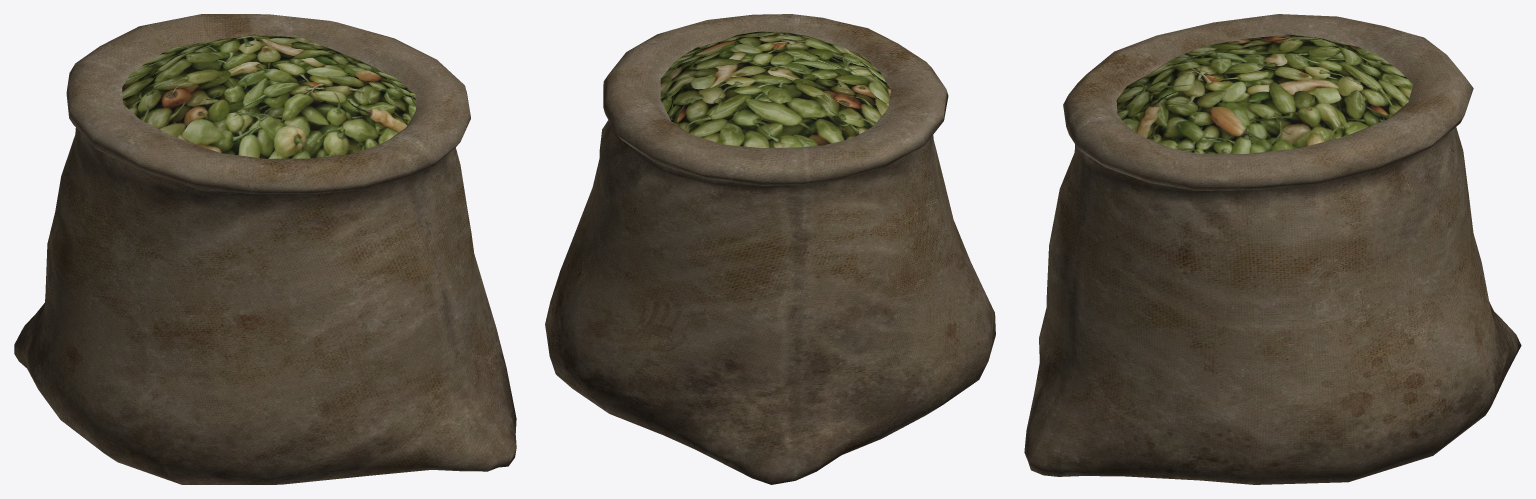
The model's file is Sack_Bag_08.glb.
The picture shows the model from 3 angles, left to right: view 1: azimuth 30°, elevation 25°; view 2: azimuth 150°, elevation 25°; view 3: azimuth 270°, elevation 25°; orthographic projection. The views are drawn at different scales.
Visible parts, largest first — view 1: SM_Sack_Bag_08; view 2: SM_Sack_Bag_08; view 3: SM_Sack_Bag_08.
Part boxes in pixels (box(x1,y1,x2,y2)): SM_Sack_Bag_08: box(14, 14, 516, 484); SM_Sack_Bag_08: box(545, 14, 995, 484); SM_Sack_Bag_08: box(1024, 14, 1521, 484).
Size of the model in its own units: 0.6957 by 0.5567 by 0.7187.
Materials: 2 (2 with a texture image).
